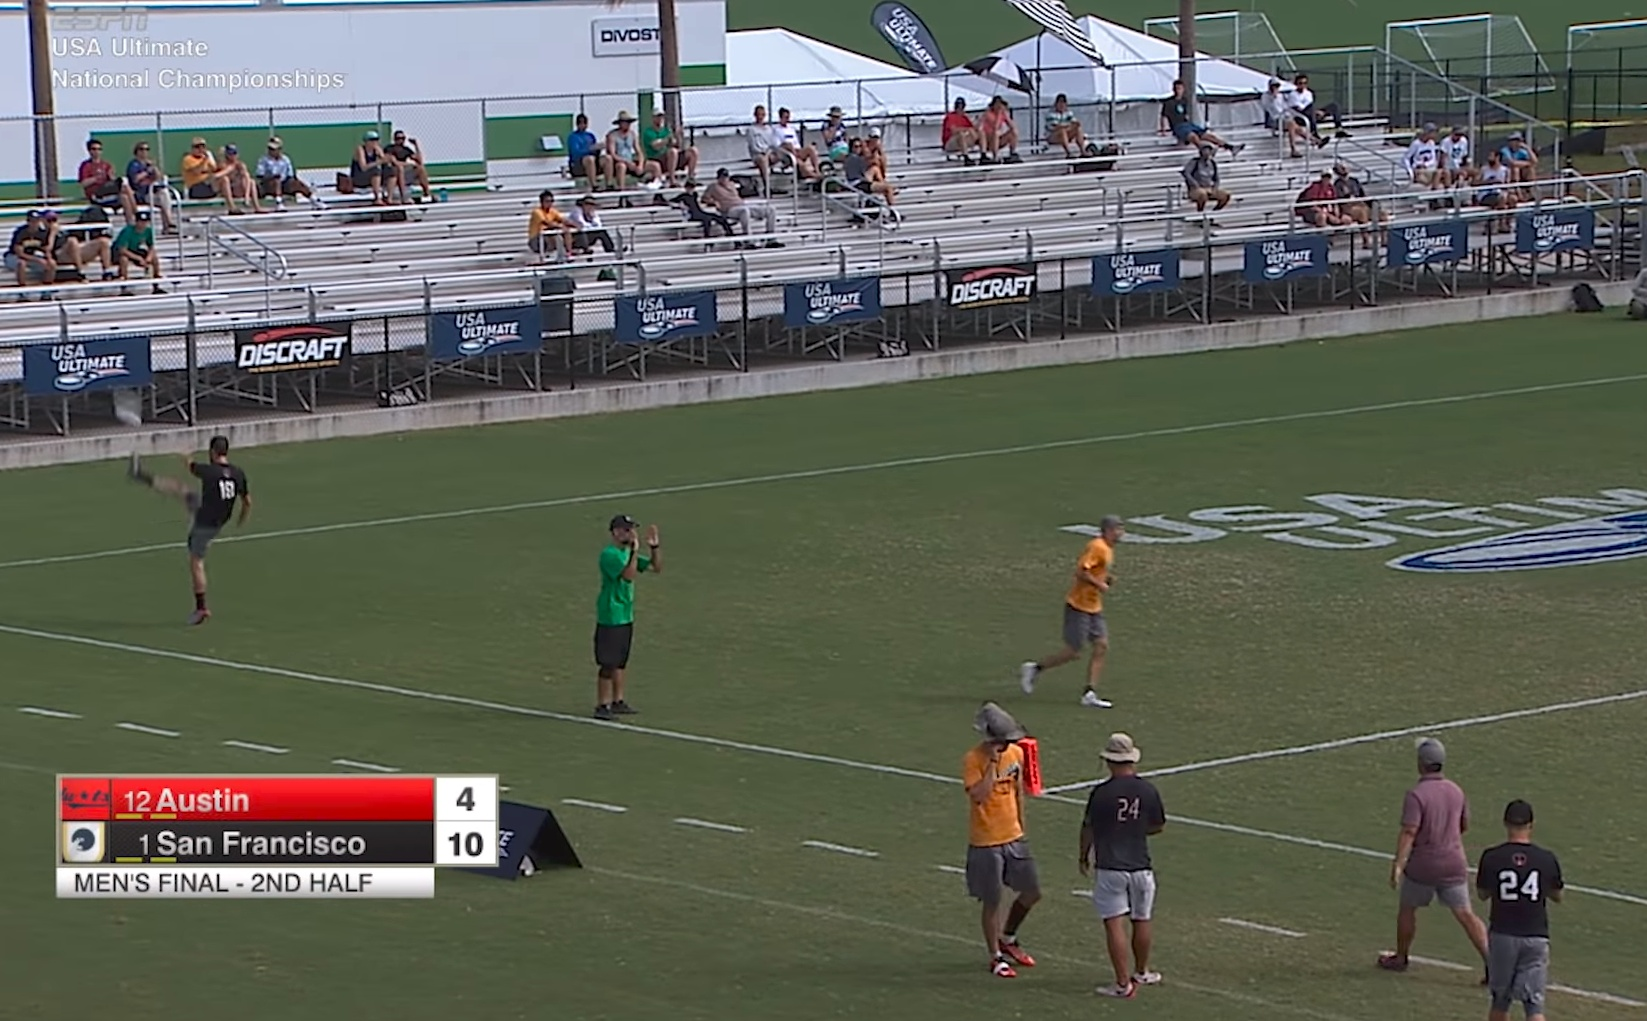frisbee: (116, 403, 142, 426)
